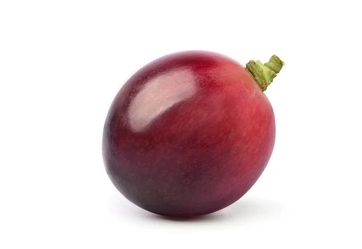grapes: (98, 35, 294, 231)
